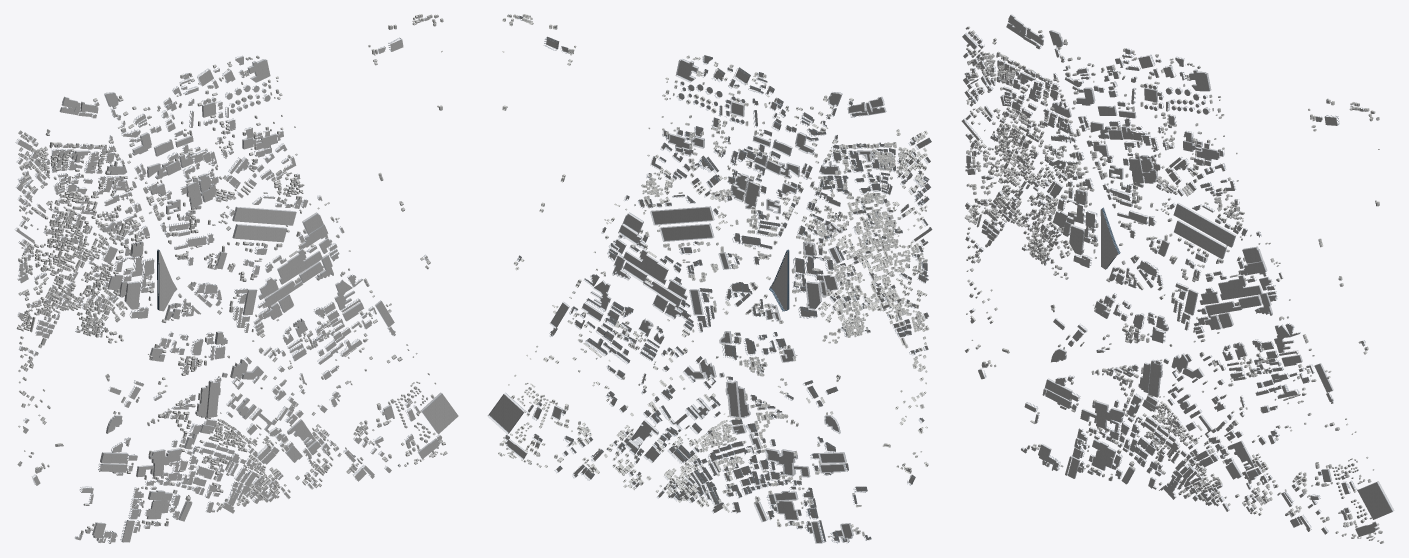
Rendered from buildings_4_1.obj.
The picture shows the model from 3 angles, left to right: view 1: azimuth 30°, elevation 25°; view 2: azimuth 150°, elevation 25°; view 3: azimuth 330°, elevation 25°; orthographic projection. The views are drawn at different scales.
Bounding box in the file's own units: 2074 × 2064 × 28.22.
Materials: 6 (6 with a texture image).
